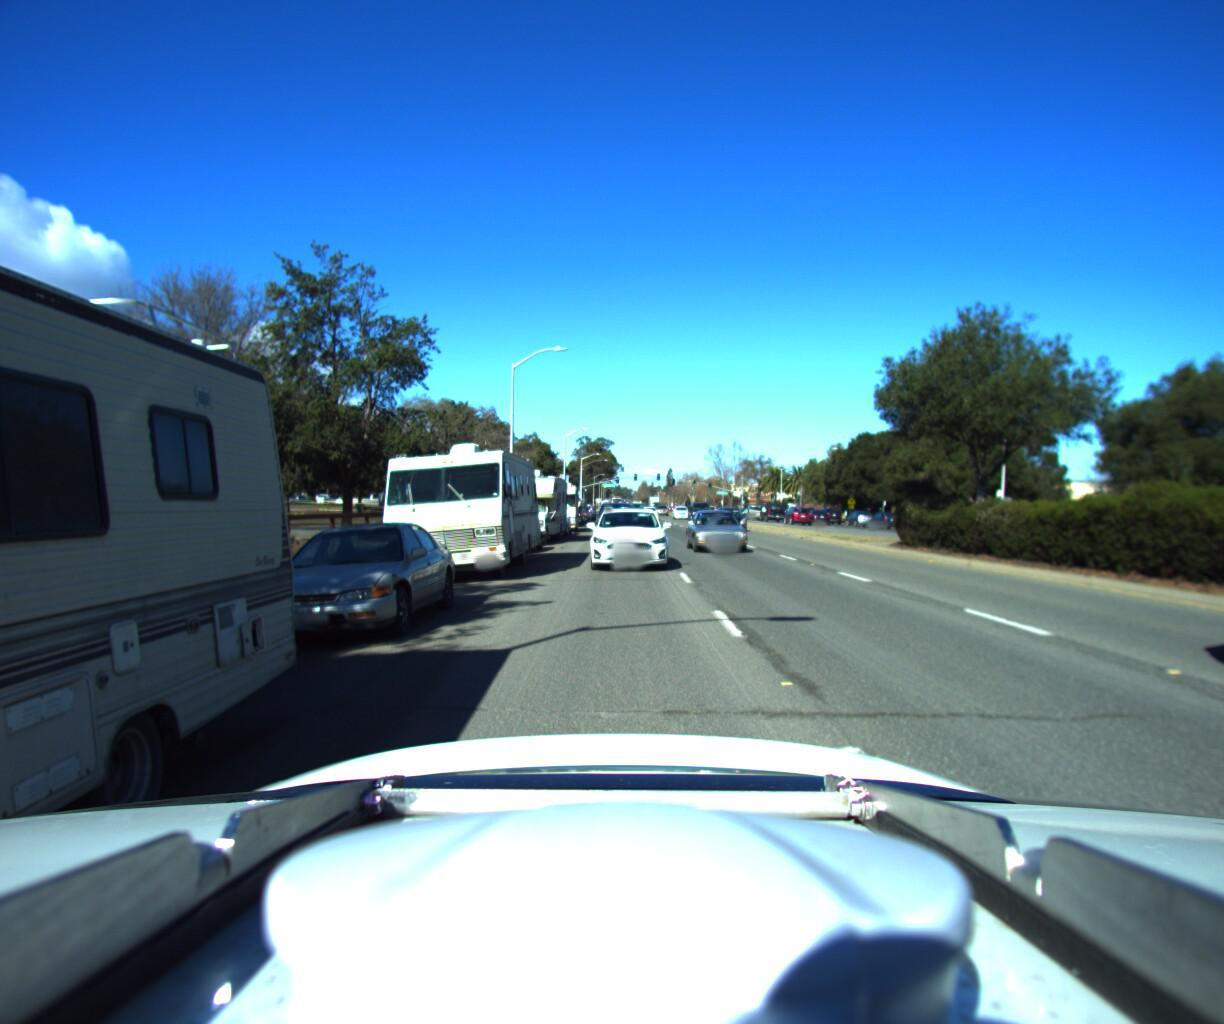car: (222, 510, 468, 664), (582, 500, 665, 570), (686, 502, 764, 555), (526, 501, 574, 532), (781, 497, 814, 518), (755, 492, 786, 515), (814, 498, 843, 517), (640, 495, 658, 513)
other_vehicle: (368, 424, 546, 584), (482, 458, 573, 544), (531, 473, 583, 526)
